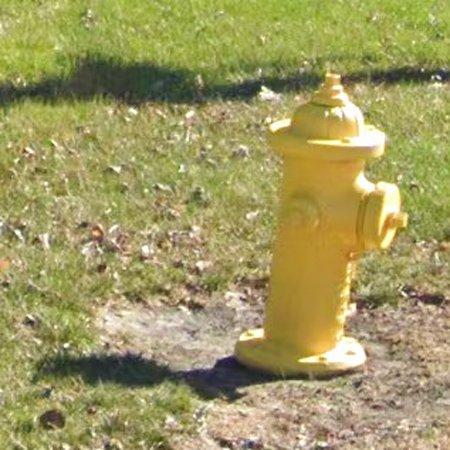a fire hydrant: (236, 73, 408, 377)
